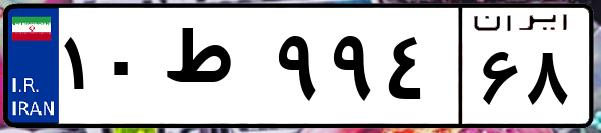0: (110, 28, 158, 98)
1: (57, 26, 110, 100)
4: (385, 28, 445, 110)
6: (475, 38, 525, 113)
8: (525, 38, 570, 115)
9: (270, 28, 330, 110), (330, 28, 385, 110)
ط: (158, 20, 270, 120)
